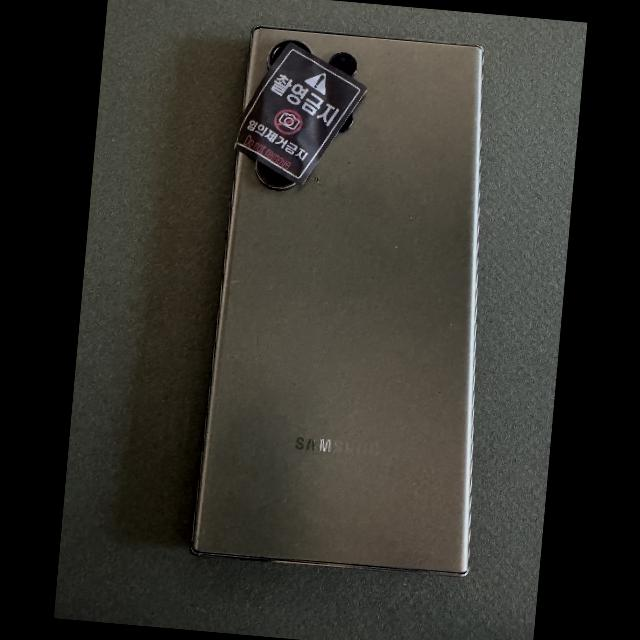lens: (269, 39, 314, 67), (256, 162, 297, 190), (330, 53, 357, 77)
phone: (190, 26, 483, 577)
sticker: (232, 41, 368, 186)
